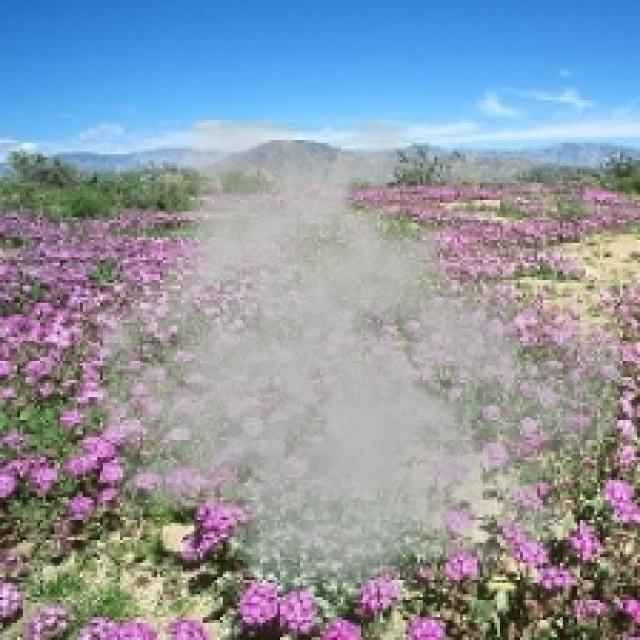Smoke: (69, 120, 626, 637)
